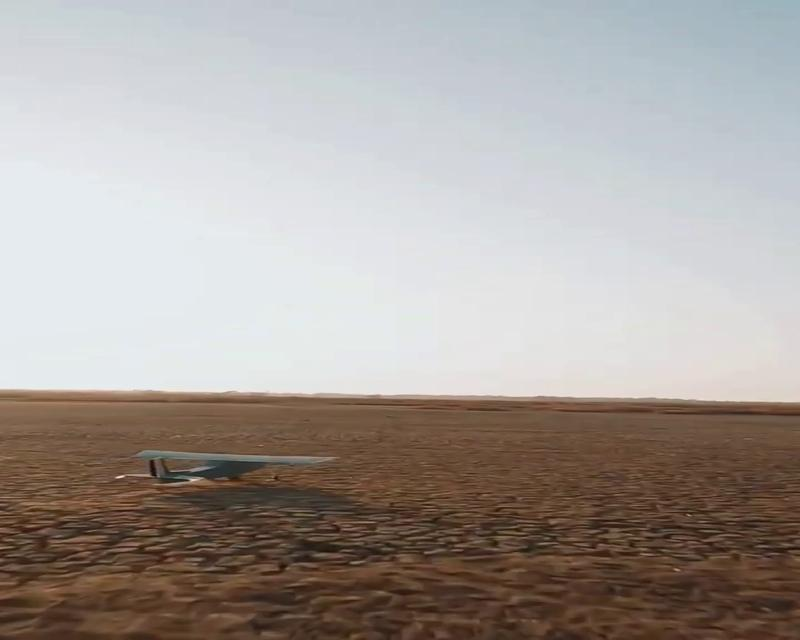UAV: (113, 448, 340, 487)
